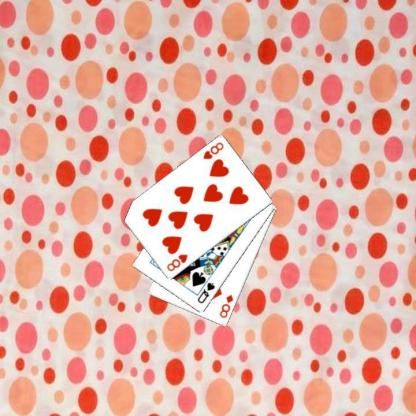8D: (217, 292, 235, 319)
8H: (164, 252, 189, 273), (200, 140, 225, 161)
QS: (195, 280, 216, 305)
